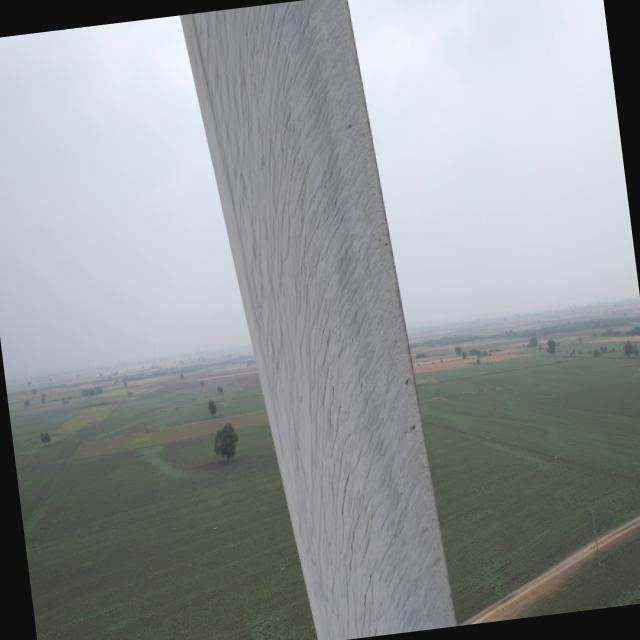Dirt: (181, 0, 458, 640)
Pin Hole: (402, 372, 415, 389), (407, 423, 417, 434)
